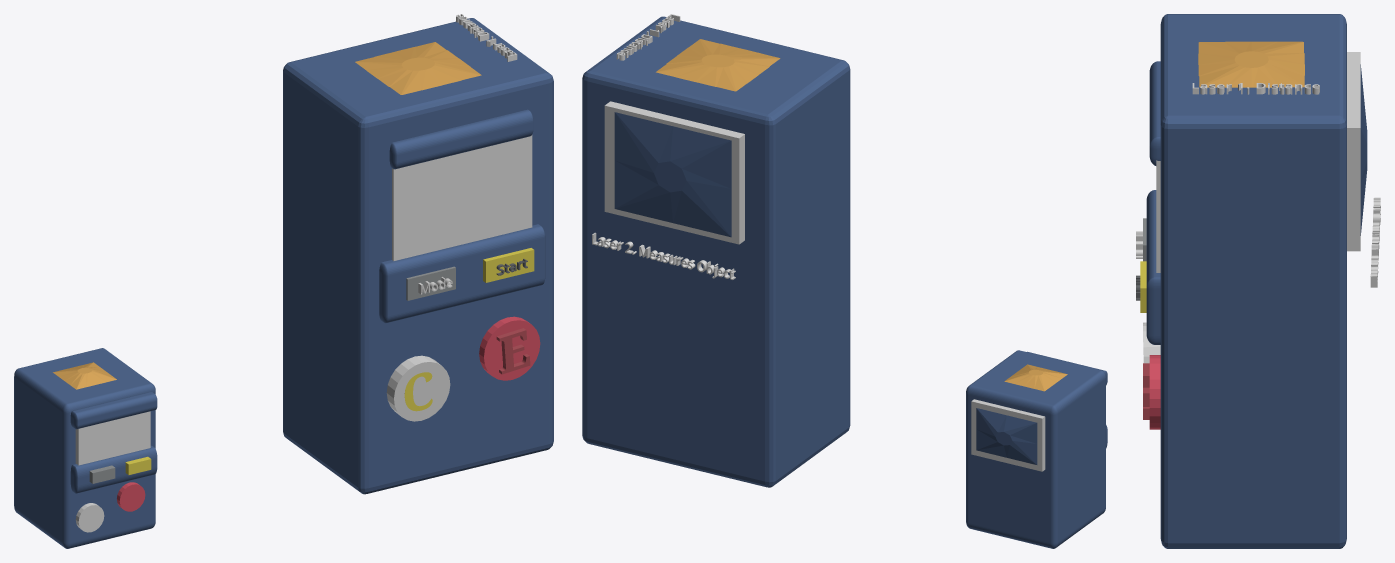
File: 05 Scaling Down Senso.glb
The picture shows the model from 3 angles, left to right: view 1: azimuth 30°, elevation 25°; view 2: azimuth 150°, elevation 25°; view 3: azimuth 270°, elevation 25°; orthographic projection. The views are drawn at different scales.
Visible parts, largest first — view 1: Mesh_Mesh_head_geo.001_lambert2SG.001; view 2: Mesh_Mesh_head_geo.001_lambert2SG.001; view 3: Mesh_Mesh_head_geo.001_lambert2SG.001.
Boxes of the visible parts, x1,y1,x2,y2 form: Mesh_Mesh_head_geo.001_lambert2SG.001: (14, 14, 553, 548); Mesh_Mesh_head_geo.001_lambert2SG.001: (582, 14, 1107, 548); Mesh_Mesh_head_geo.001_lambert2SG.001: (1136, 14, 1380, 548).
Size of the model in its own units: 92 by 73.01 by 36.
